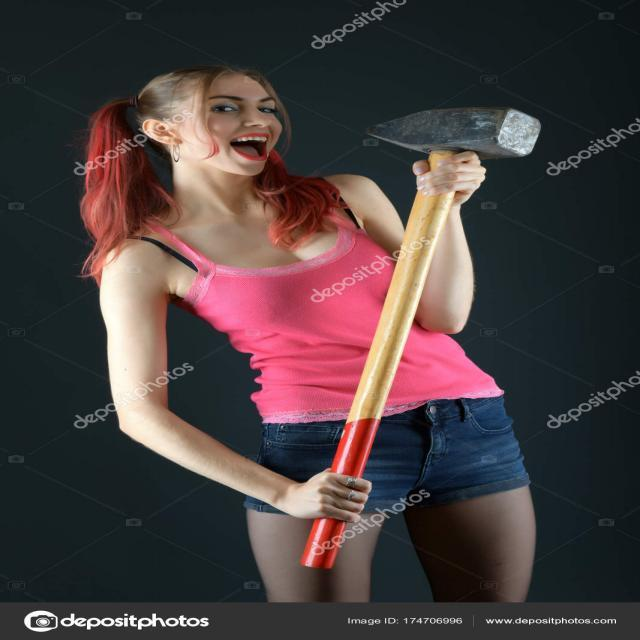hammer: (299, 100, 549, 586)
